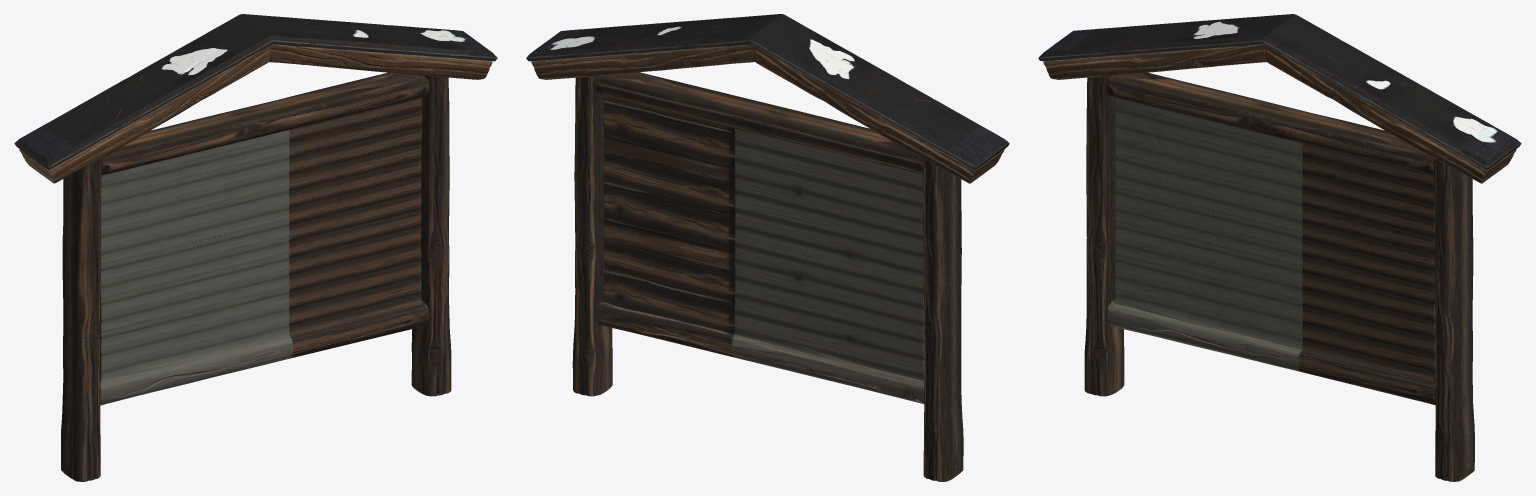
The model's file is map_board.glb.
3 renders of one model, left to right at view 1: azimuth 30°, elevation 25°; view 2: azimuth 150°, elevation 25°; view 3: azimuth 330°, elevation 25°, orthographic.
Bounding box in the file's own units: 1.9 × 1.63 × 0.2487.
Materials: 1 (1 with a texture image).
